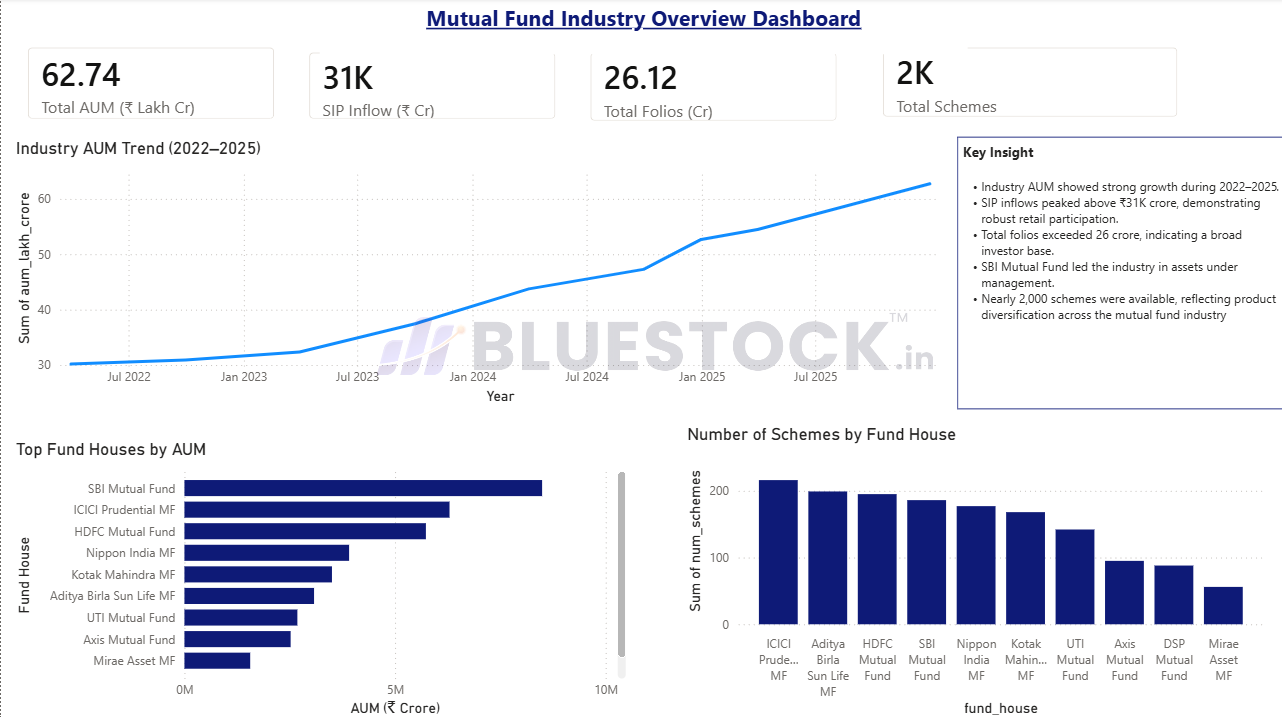

This screenshot's page, from the dashboard's own definition file:
{"tool":"powerbi","page":{"name":"Industry Overview","canvas":[1280,720],"ordinal":0},"visuals":[{"type":"cardVisual","title":"Total AUM (₹ Lakh Cr)","fields":{"Data":["clean_aum_by_fund_house.Total AUM"]},"box":[9.6,32.9,279.9,105.7],"z":0},{"type":"cardVisual","fields":{"Data":["Max(clean_monthly_sip_inflows.sip_inflow_crore)"]},"box":[289.8,37.3,279.9,100.8],"z":1000},{"type":"cardVisual","fields":{"Data":["Max(clean_industry_folio_count.total_folios_crore)"]},"box":[569.7,37.3,279.9,102],"z":2000},{"type":"cardVisual","fields":{"Data":["clean_aum_by_fund_house.Total Schemes"]},"box":[860.8,32.3,327.2,103.2],"z":3000},{"type":"clusteredBarChart","title":"Top Fund Houses by AUM","fields":{"Y":["Sum(clean_aum_by_fund_house.aum_crore)"],"Category":["clean_aum_by_fund_house.fund_house"]},"box":[10,439.1,617,281.1],"z":4000},{"type":"clusteredColumnChart","title":"Number of Schemes by Fund House","fields":{"Category":["clean_aum_by_fund_house.fund_house"],"Y":["Sum(clean_aum_by_fund_house.num_schemes)"]},"box":[678,424.2,583.4,296.1],"z":5000},{"type":"textbox","box":[951.6,138.1,328.4,271.2],"z":6000},{"type":"textbox","box":[317,0,644.9,56.3],"z":7000},{"type":"lineChart","title":"Industry AUM Trend (2022–2025)","fields":{"Y":["Sum(clean_aum_by_fund_house.aum_lakh_crore)"],"Category":["clean_aum_by_fund_house.date.Variation.Date Hierarchy.Year","clean_aum_by_fund_house.date.Variation.Date Hierarchy.Quarter","clean_aum_by_fund_house.date.Variation.Date Hierarchy.Month","clean_aum_by_fund_house.date.Variation.Date Hierarchy.Day"]},"box":[10,139.3,941.7,269.9],"z":8000},{"type":"image","box":[371.9,248.8,561,190.3],"z":8001}]}

Visuals, with their boxes in screenshot pixels (x1, y1, x2, y2), scaled from the page's 1280x720 canvas onto the 1282x717 screenshot:
"Total AUM (₹ Lakh Cr)" cardVisual: 10,33,290,138
cardVisual - Max(clean_monthly_sip_inflows.sip_inflow_crore): 290,37,571,138
cardVisual - Max(clean_industry_folio_count.total_folios_crore): 571,37,851,139
cardVisual - clean_aum_by_fund_house.Total Schemes: 862,32,1190,135
"Top Fund Houses by AUM" clusteredBarChart: 10,437,628,716
"Number of Schemes by Fund House" clusteredColumnChart: 679,422,1263,716
textbox: 953,138,1281,408
textbox: 317,0,963,56
"Industry AUM Trend (2022–2025)" lineChart: 10,139,953,407
image: 372,248,934,437
